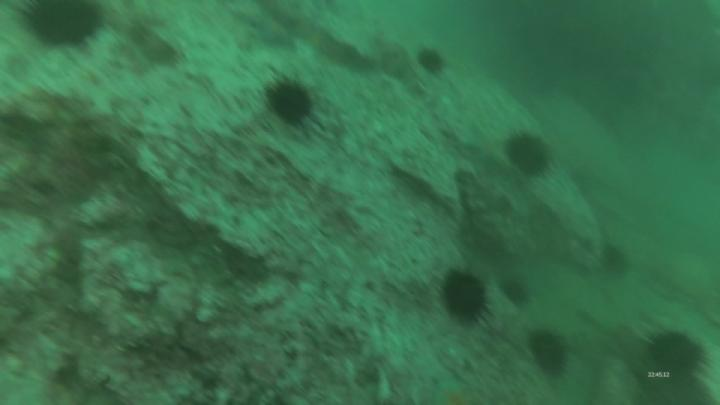echinus: (24, 1, 107, 52), (646, 327, 709, 389), (440, 266, 490, 328), (262, 72, 316, 129), (501, 129, 556, 180), (529, 328, 574, 383), (245, 10, 301, 53), (598, 239, 630, 280), (416, 45, 448, 76), (500, 278, 530, 308)
